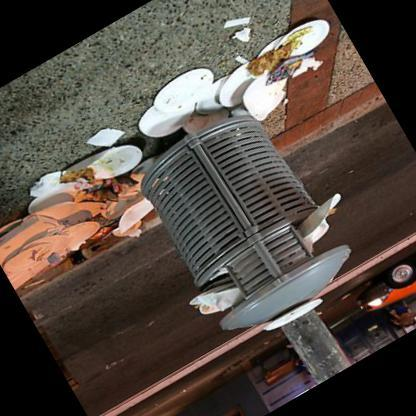Garbage: (119, 0, 347, 170), (0, 143, 158, 307), (0, 105, 152, 235)
